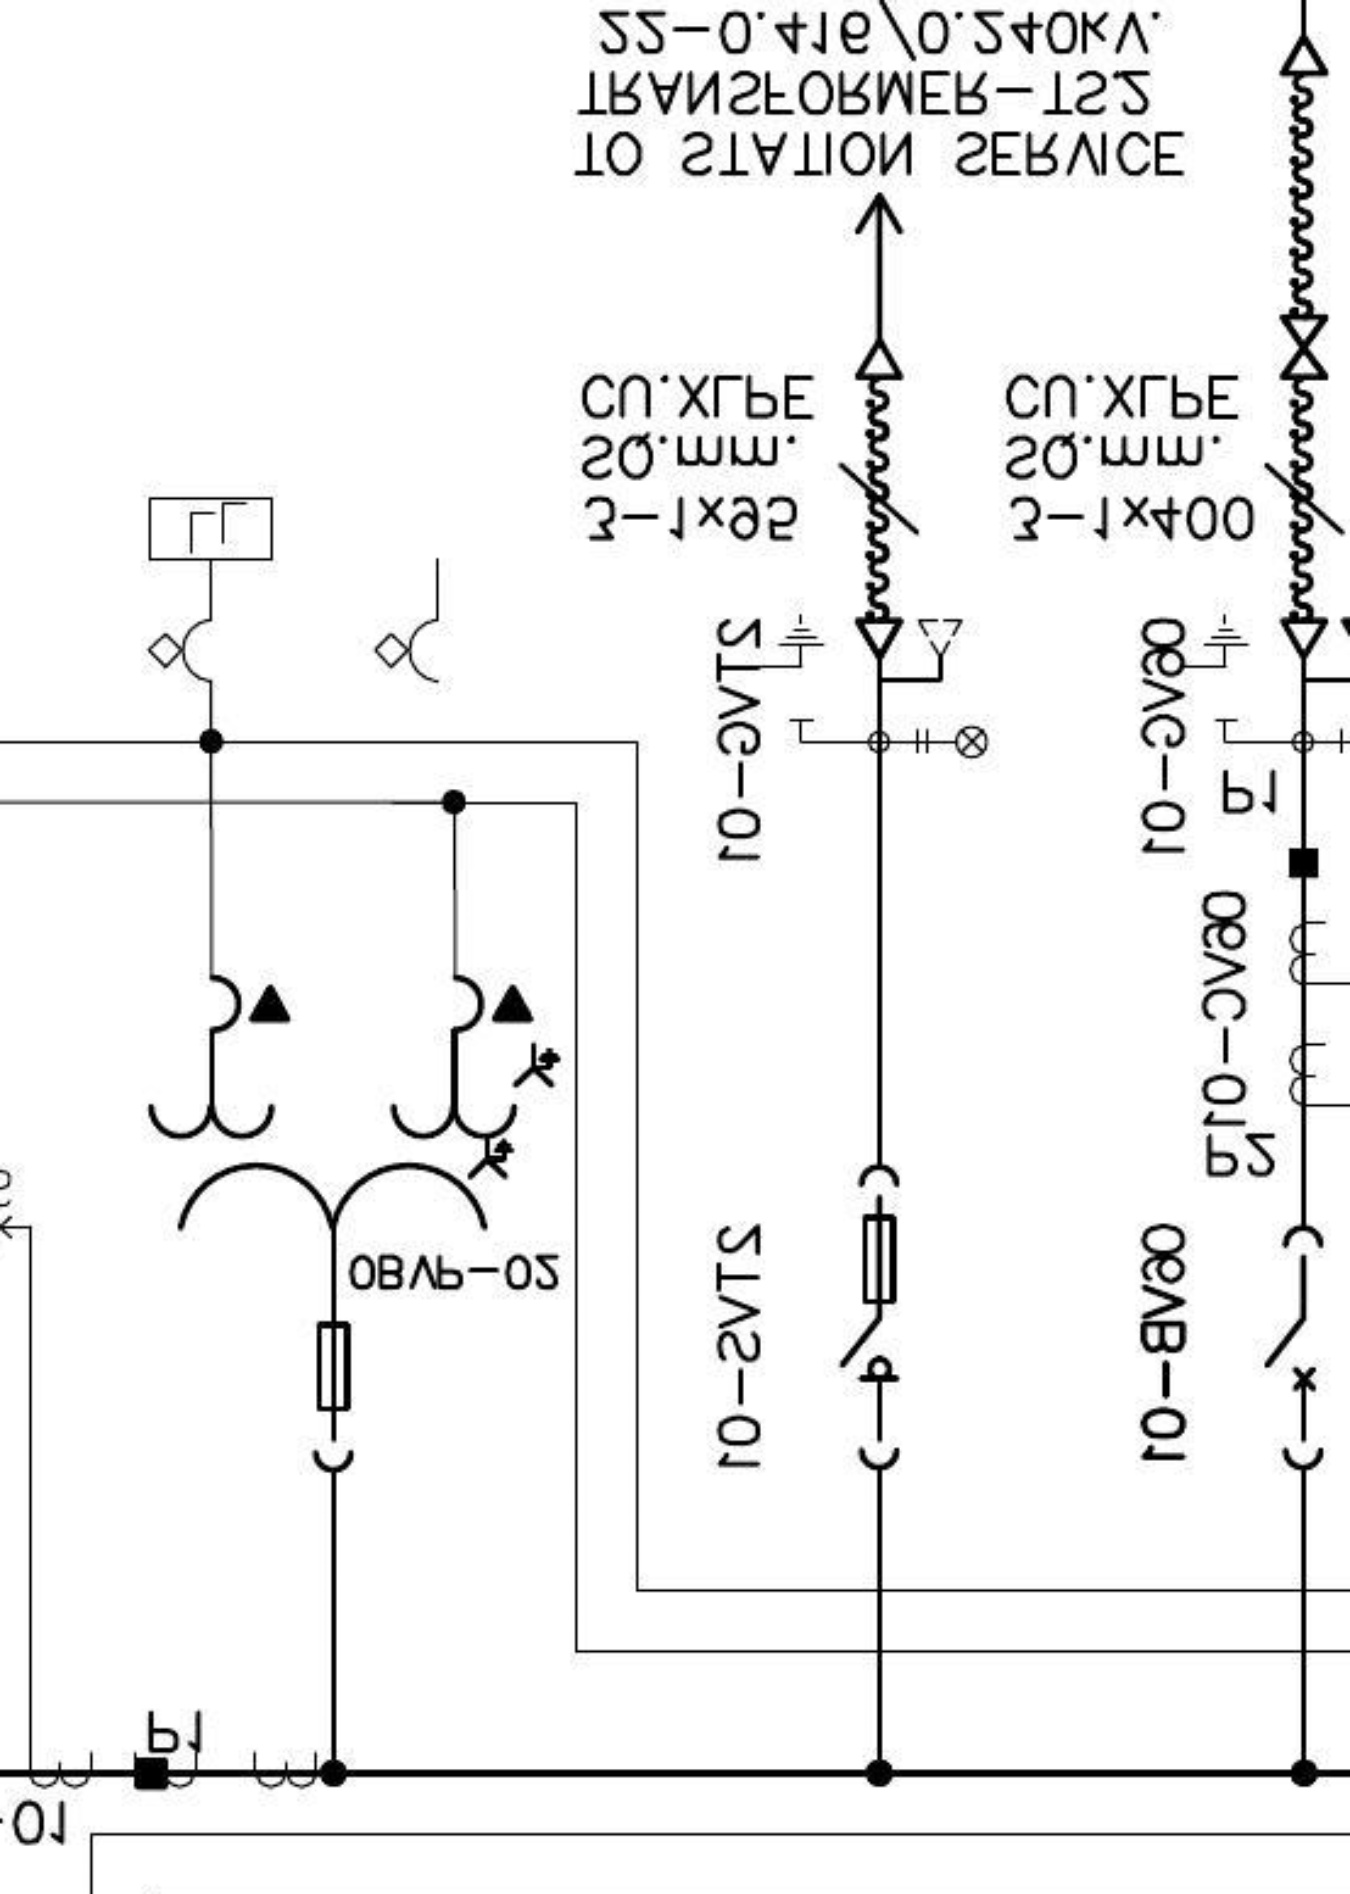22_breaker: (1261, 1222, 1327, 1472)
22_ds: (837, 1161, 903, 1472)
22_gs: (757, 612, 824, 723), (1183, 612, 1251, 723)
22_ll: (913, 724, 989, 761)
22_vt_3p: (146, 973, 562, 1476)
LL: (145, 494, 278, 565)
terminator_single: (853, 336, 909, 383), (1277, 32, 1331, 79)
terminator_splicing_kits: (1278, 313, 1330, 381)
terminator_w_future: (852, 616, 967, 688)
